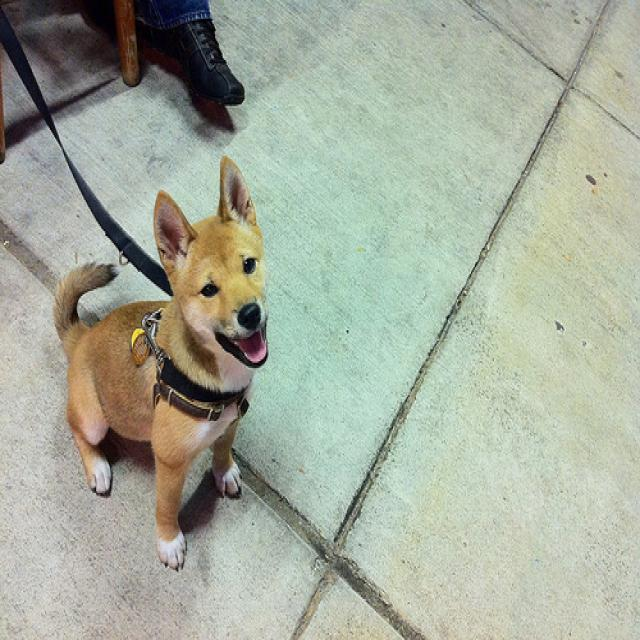dog-shiba_inu: (44, 151, 276, 572)
